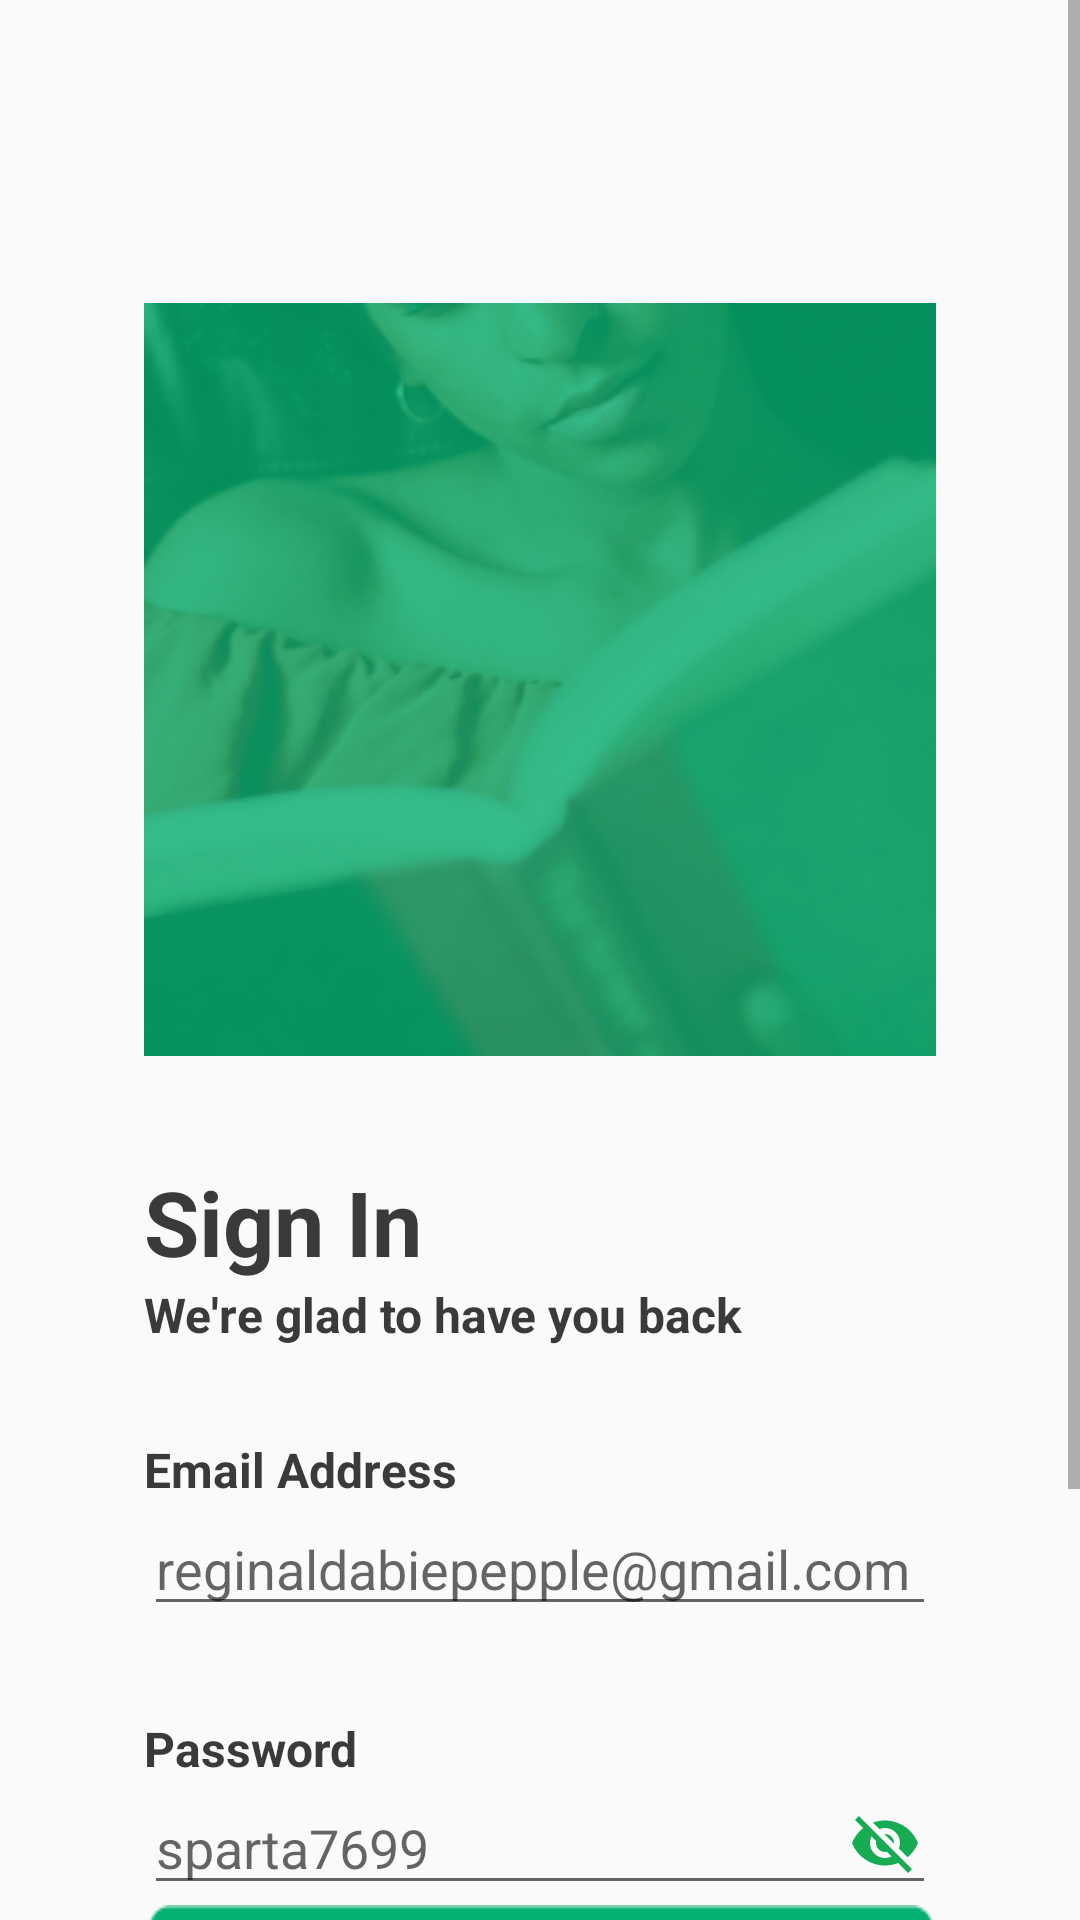

Point at icon controls on the screen. Image size 1080 × 1920, points as [x,y].
visibility: [885,1844]
